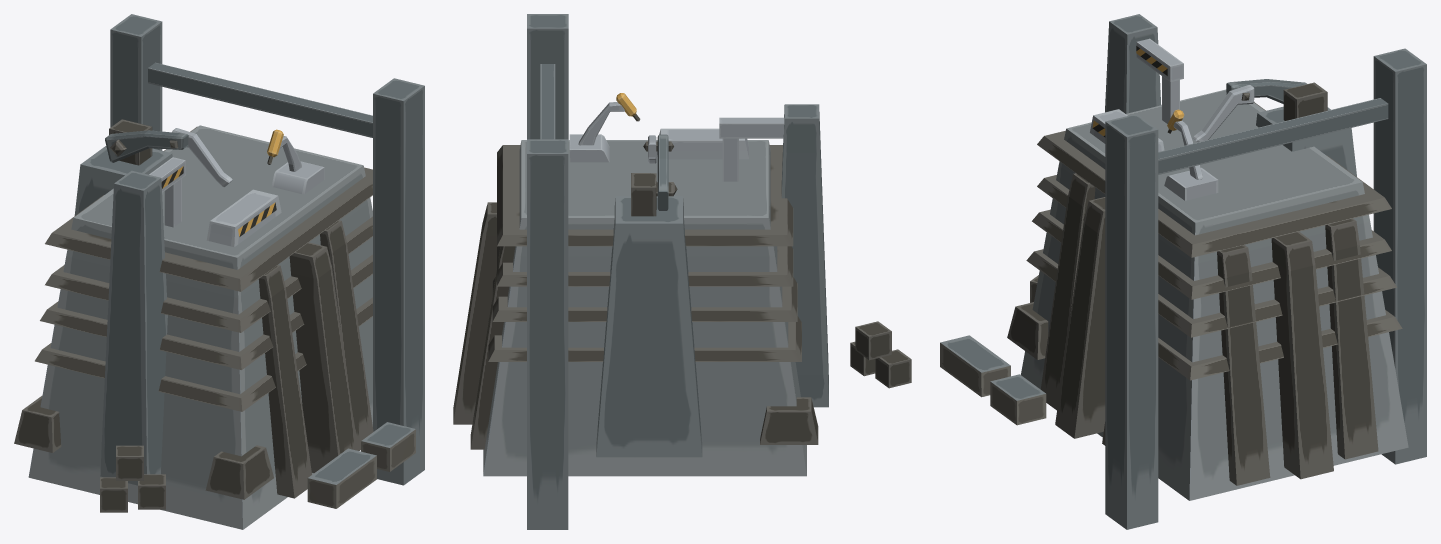
Rendered from construct.FBX.
The picture shows the model from 3 angles, left to right: view 1: azimuth 30°, elevation 25°; view 2: azimuth 150°, elevation 25°; view 3: azimuth 270°, elevation 25°; orthographic projection. The views are drawn at different scales.
Visible parts, largest first — view 1: Construct, a, c, d, e, b; view 2: Construct, a, c, d, b; view 3: Construct, a, c, e, d, b.
Part boxes in pixels (x1,y1,x2,y2): Construct: [14, 14, 424, 529]; a: [100, 157, 185, 485]; c: [148, 62, 372, 137]; d: [105, 130, 188, 162]; e: [172, 128, 232, 187]; b: [267, 129, 301, 171]; Construct: [453, 14, 911, 529]; a: [719, 104, 828, 407]; c: [540, 64, 555, 139]; d: [643, 134, 677, 210]; b: [578, 93, 640, 145]; Construct: [940, 48, 1426, 529]; a: [1105, 14, 1183, 123]; c: [1158, 98, 1388, 174]; e: [1192, 85, 1254, 142]; d: [1226, 79, 1306, 103]; b: [1167, 109, 1202, 179].
Bounding box in the file's own units: 141 × 156 × 139.
